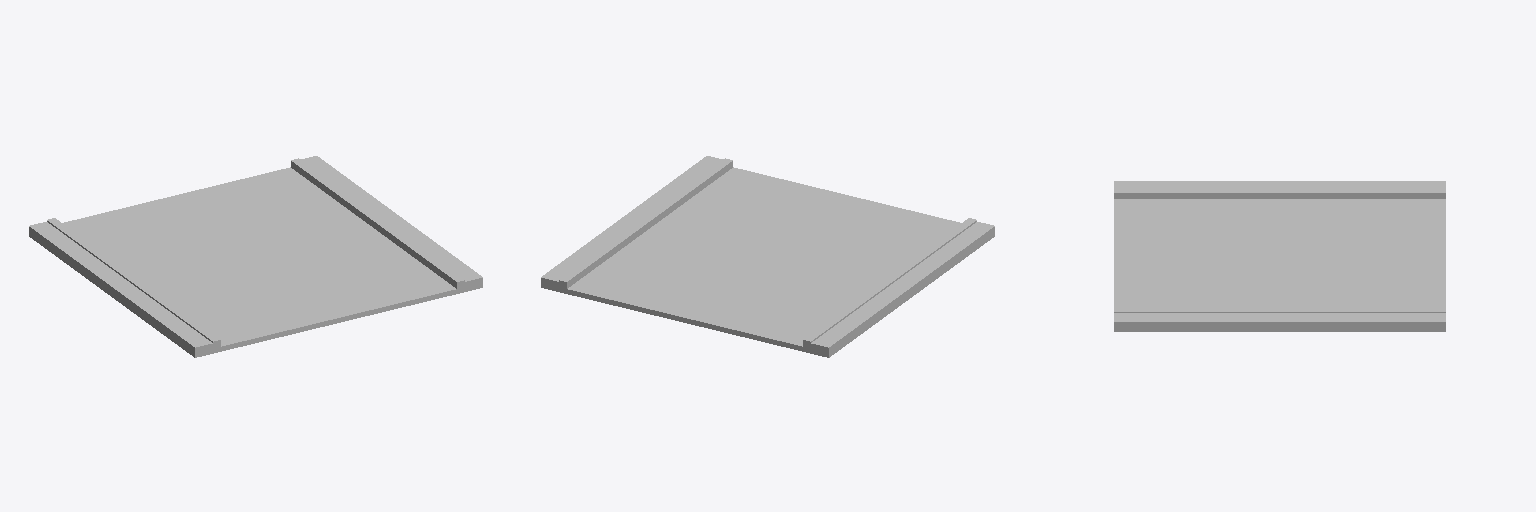
File: Road10_90angle_Corner.obj
3 views of the same model, side by side, from view 1: azimuth 30°, elevation 25°; view 2: azimuth 150°, elevation 25°; view 3: azimuth 270°, elevation 25° (orthographic).
Parts seen in each view (by area): view 1: Road1_Road1Material; view 2: Road1_Road1Material; view 3: Road1_Road1Material.
Part boxes in pixels (x1,y1,x2,y2): Road1_Road1Material: (29,156,482,357); Road1_Road1Material: (541,156,994,357); Road1_Road1Material: (1114,181,1445,331).
Size of the model in its own units: 12 by 0.4753 by 12.